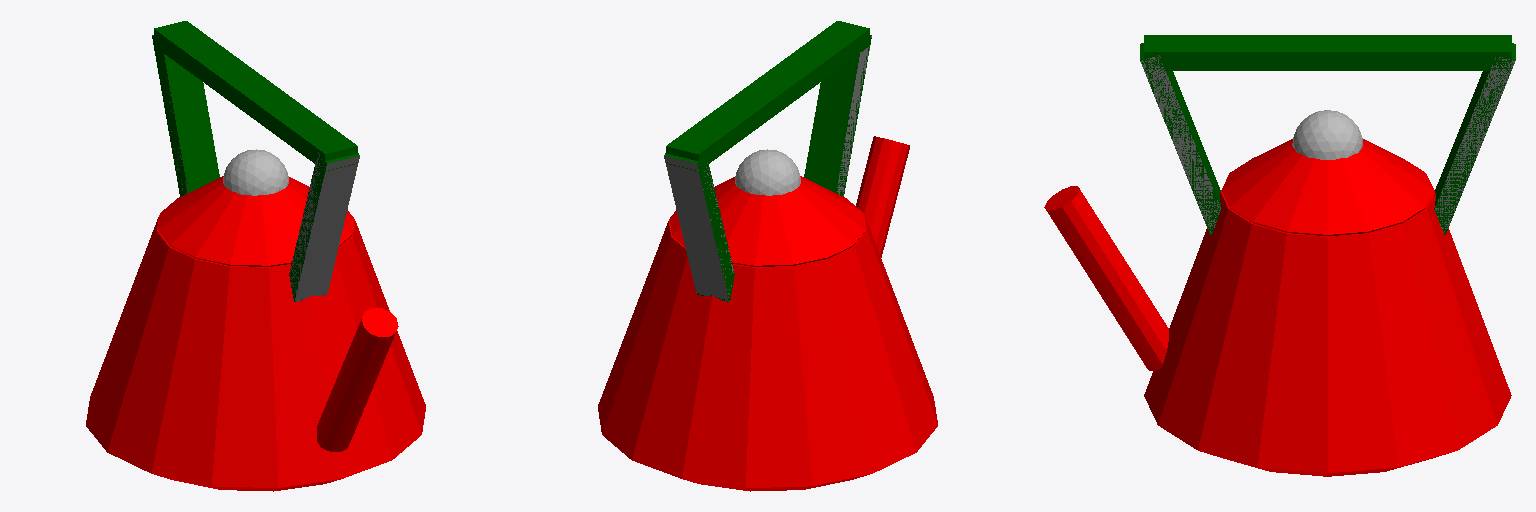
URDF robot description (kettle):
<?xml version="1.0"?>
<robot name="kettle"
       xmlns:xi="http://www.w3.org/2001/XInclude"
       xmlns:gazebo="http://playerstage.sourceforge.net/gazebo/xmlschema/#gz"
       xmlns:model="http://playerstage.sourceforge.net/gazebo/xmlschema/#model"
       xmlns:sensor="http://playerstage.sourceforge.net/gazebo/xmlschema/#sensor"
       xmlns:body="http://playerstage.sourceforge.net/gazebo/xmlschema/#body"
       xmlns:geom="http://playerstage.sourceforge.net/gazebo/xmlschema/#geom"
       xmlns:joint="http://playerstage.sourceforge.net/gazebo/xmlschema/#joint"
       xmlns:interface="http://playerstage.sourceforge.net/gazebo/xmlschema/#interface"
       xmlns:rendering="http://playerstage.sourceforge.net/gazebo/xmlschema/#rendering"
       xmlns:renderable="http://playerstage.sourceforge.net/gazebo/xmlschema/#renderable"
       xmlns:controller="http://playerstage.sourceforge.net/gazebo/xmlschema/#controller"
       xmlns:physics="http://playerstage.sourceforge.net/gazebo/xmlschema/#physics">
  <gazebo>
    <static>false</static>
  </gazebo>
  <link name="KETTLE-BODYSET2_link">
    <visual>
      <origin xyz="0 0 0" rpy="0 -0 0"/>
      <geometry>
        <mesh filename="model://kettle/meshes/KETTLE-BODYSET2_link_mesh.dae" scale="1 1 1" />
      </geometry>
    </visual>
    <collision>
      <origin xyz="0 0 0" rpy="0 -0 0"/>
      <geometry>
        <mesh filename="model://kettle/meshes/KETTLE-BODYSET2_link_mesh.dae" scale="1 1 1" />
      </geometry>
    </collision>
    <inertial>
      <mass value="0.001" />
      <origin xyz="0 0 0" rpy="0 -0 0"/>
      <inertia ixx="1e-09" ixy="0" ixz="0" iyy="1e-09" iyz="0" izz="1e-09"/>
    </inertial>
  </link>
  <gazebo reference="KETTLE-BODYSET2_link">
    <mu1>0.9</mu1>
    <mu2>0.9</mu2>
  </gazebo>
  <link name="KETTLE-BODYSET3_link">
    <visual>
      <origin xyz="0 0 0.101305" rpy="0 -0 0"/>
      <geometry>
        <mesh filename="model://kettle/meshes/KETTLE-BODYSET3_link_mesh.dae" scale="1 1 1" />
      </geometry>
    </visual>
    <collision>
      <origin xyz="0 0 0.101305" rpy="0 -0 0"/>
      <geometry>
        <mesh filename="model://kettle/meshes/KETTLE-BODYSET3_link_mesh.dae" scale="1 1 1" />
      </geometry>
    </collision>
    <inertial>
      <mass value="0.001" />
      <origin xyz="0 0 0" rpy="0 -0 0"/>
      <inertia ixx="1e-09" ixy="0" ixz="0" iyy="1e-09" iyz="0" izz="1e-09"/>
    </inertial>
  </link>
  <gazebo reference="KETTLE-BODYSET3_link">
    <mu1>0.9</mu1>
    <mu2>0.9</mu2>
  </gazebo>
  <joint name="HANDLE-JOINT" type="revolute">
    <parent link="KETTLE-BODYSET2_link"/>
    <child  link="KETTLE-BODYSET3_link"/>
    <origin xyz="0 0 0.101305" rpy="0 -0 0 "/>
    <axis   xyz="0 1 0"/>
    <limit lower="-0.174533" upper="1.8326" effort="100" velocity="0.5" />
    <dynamics damping="0.2" friction="0" />
  </joint>
  <transmission type="pr2_mechanism_model/SimpleTransmission" name="HANDLE-JOINT_trans" >
    <actuator name="HANDLE-JOINT_motor" />
    <joint name="HANDLE-JOINT" />
    <mechanicalReduction>1</mechanicalReduction>
  </transmission>
  <gazebo reference="HANDLE-JOINT">
    <cfmDamping>0.4</cfmDamping>
  </gazebo>
</robot>

--- What the picture shows (computed from the rendered views, not written in the file) ---
The picture shows the robot from 3 angles, left to right: view 1: azimuth 30°, elevation 25°; view 2: azimuth 150°, elevation 25°; view 3: azimuth 270°, elevation 25°; orthographic projection.
Model kettle with 2 links and 1 joints (1 revolute), rooted at KETTLE-BODYSET2_link, posed all joints at 0.
Links seen in each view (by area): view 1: KETTLE-BODYSET2_link, KETTLE-BODYSET3_link; view 2: KETTLE-BODYSET2_link, KETTLE-BODYSET3_link; view 3: KETTLE-BODYSET2_link, KETTLE-BODYSET3_link.
Boxes of the visible links, x1=… form: KETTLE-BODYSET2_link: x1=86, y1=21, x2=425, y2=491; KETTLE-BODYSET3_link: x1=166, y1=77, x2=359, y2=301; KETTLE-BODYSET2_link: x1=598, y1=21, x2=937, y2=491; KETTLE-BODYSET3_link: x1=664, y1=36, x2=871, y2=301; KETTLE-BODYSET2_link: x1=1044, y1=35, x2=1515, y2=476; KETTLE-BODYSET3_link: x1=1140, y1=55, x2=1514, y2=233.
Size in the robot's own frame: 0.18 by 0.2305 by 0.2 metres.
Meshes: 2 distinct files referenced, 2 mesh visuals loaded (2 Collada DAE).
